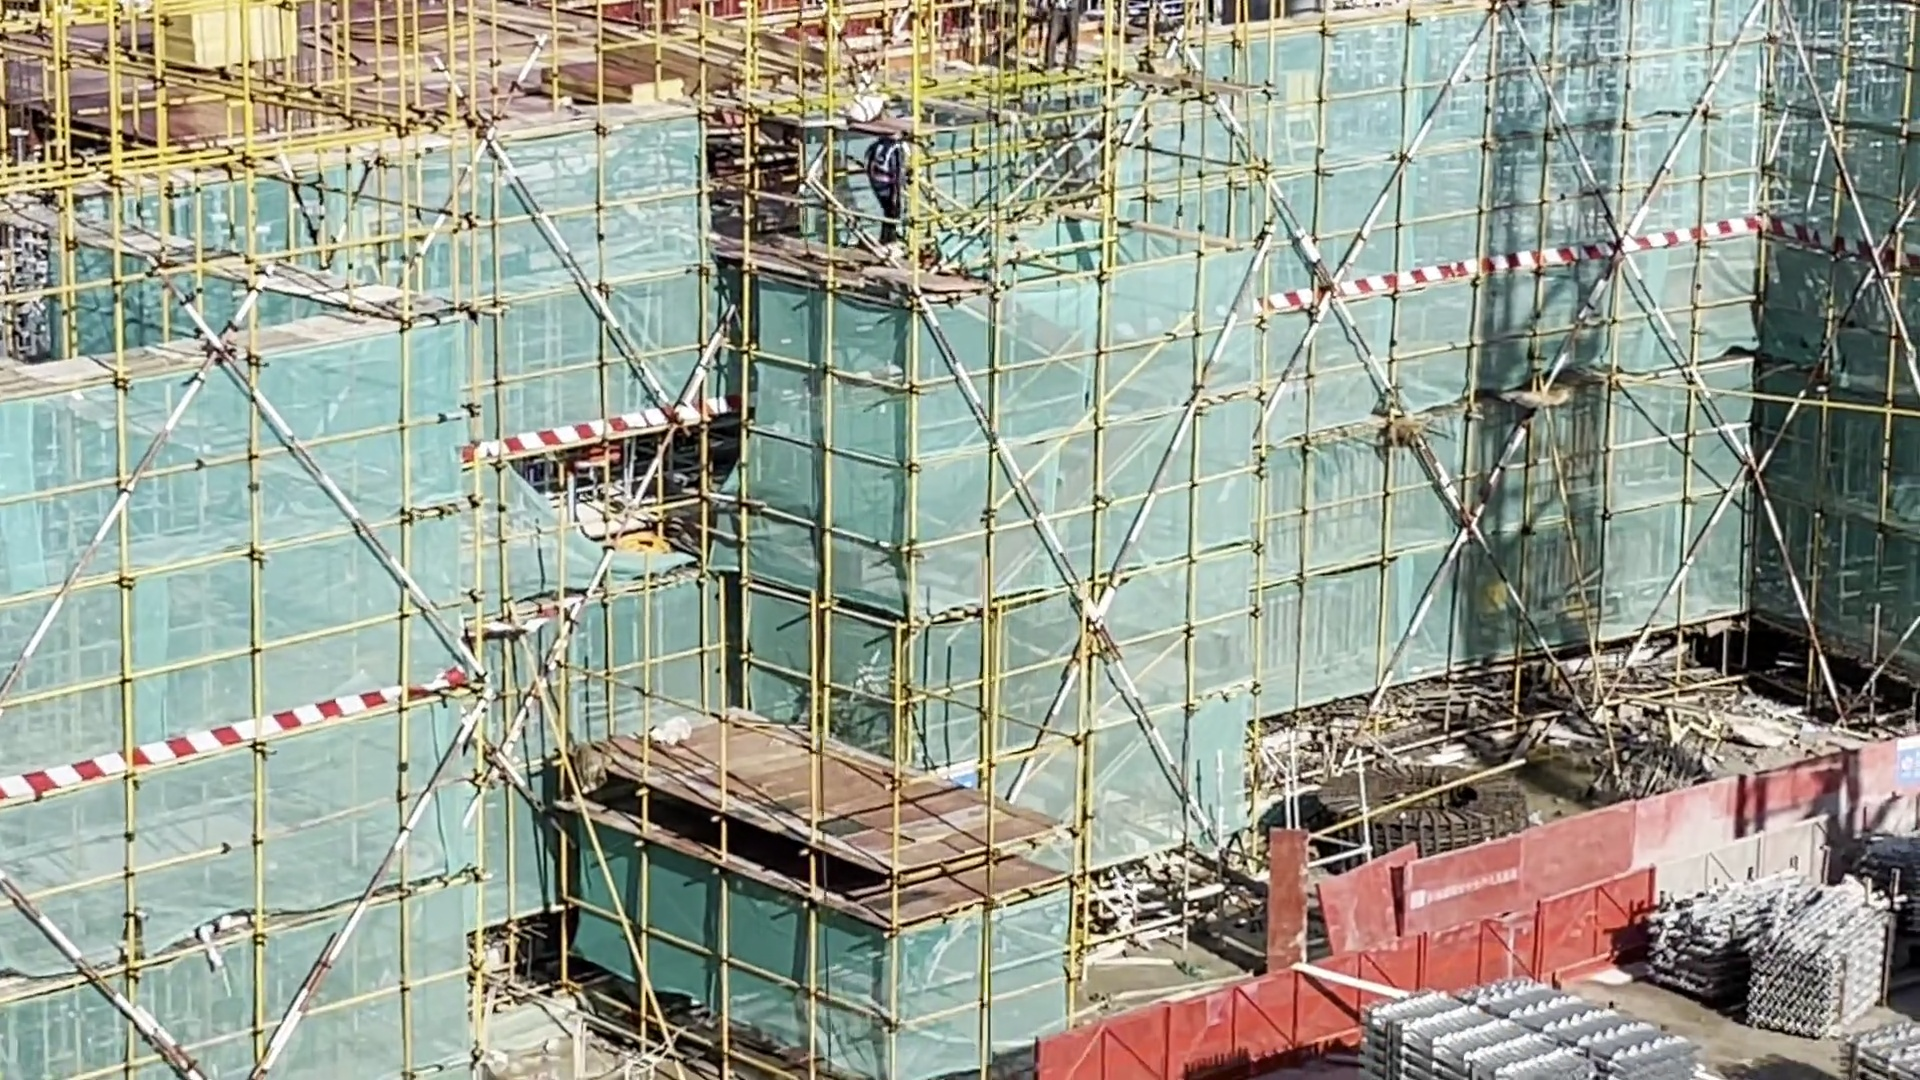fence: (1038, 799, 1920, 1080)
person: (863, 126, 917, 253)
scaffold: (1647, 875, 1893, 1032), (1374, 969, 1699, 1080)
vest: (870, 141, 905, 193)
